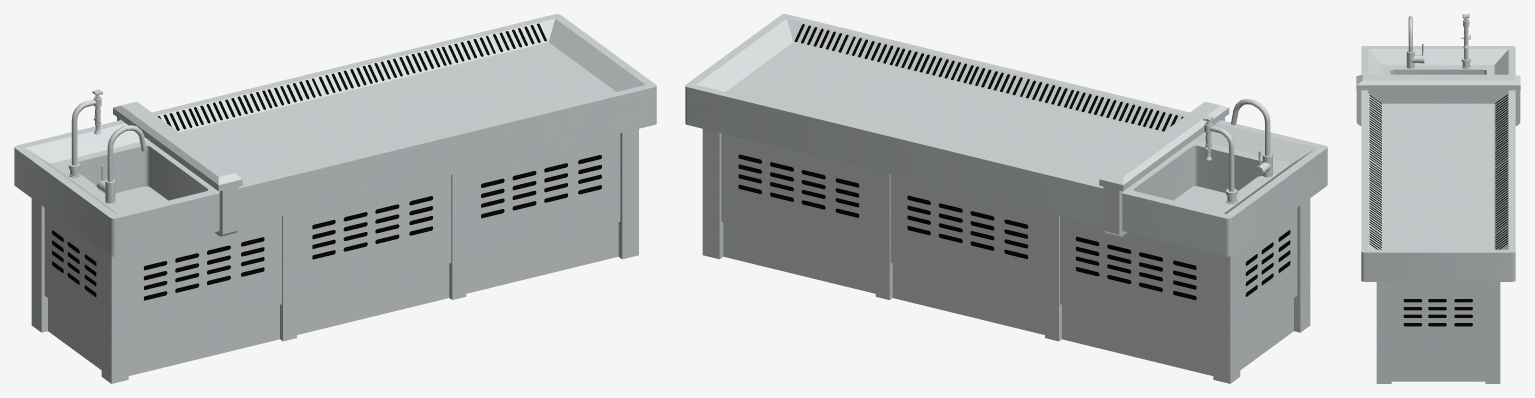
File: SM_解剖房_解剖台_01.fbx
The picture shows the model from 3 angles, left to right: view 1: azimuth 30°, elevation 25°; view 2: azimuth 150°, elevation 25°; view 3: azimuth 270°, elevation 25°; orthographic projection. The views are drawn at different scales.
Parts seen in each view (by area): view 1: SM_解剖房_解剖台_01; view 2: SM_解剖房_解剖台_01; view 3: SM_解剖房_解剖台_01.
Part boxes in pixels (left/top/right/bottom): SM_解剖房_解剖台_01: left=14, top=14, right=656, bottom=383; SM_解剖房_解剖台_01: left=685, top=14, right=1327, bottom=383; SM_解剖房_解剖台_01: left=1356, top=14, right=1520, bottom=383.
Size of the model in its own units: 2720 by 1139 by 914.
